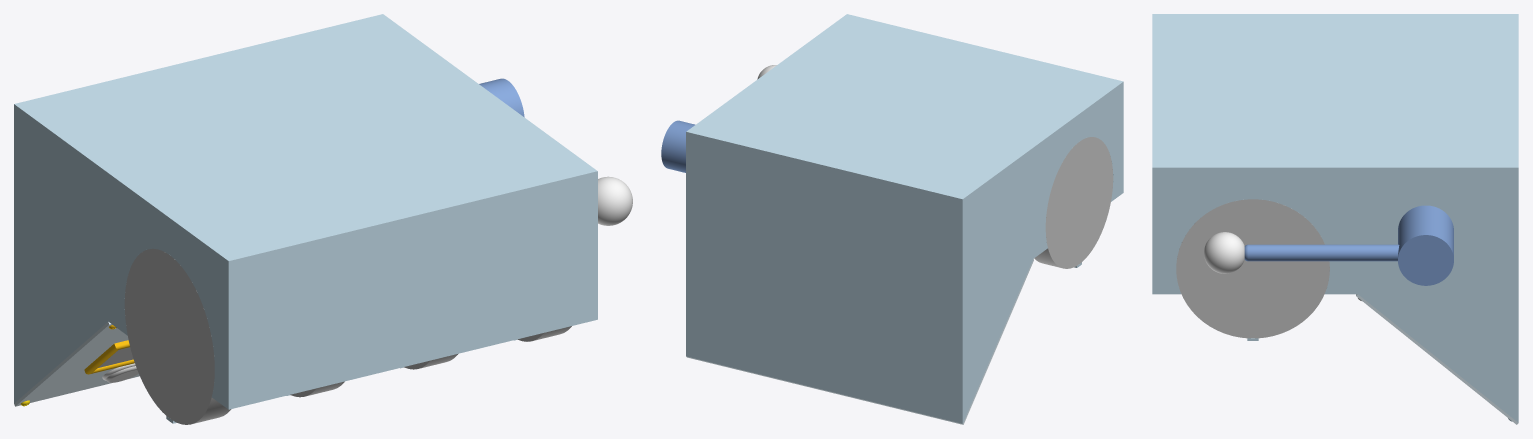
The model's file is tech-stack-slot-machine.gltf.
The picture shows the model from 3 angles, left to right: view 1: azimuth 30°, elevation 25°; view 2: azimuth 150°, elevation 25°; view 3: azimuth 270°, elevation 25°; orthographic projection. The views are drawn at different scales.
Visible parts, largest first — view 1: main-body, top-plate, spinner-housing, faceplate, handle-knob, handle-body, display-border; view 2: main-body, spinner-housing, handle-body, faceplate, top-plate; view 3: main-body, spinner-housing, handle-body, handle-knob, top-plate, faceplate.
Part boxes in pixels (x1,y1,x2,y2): main-body: (14,14,595,407); top-plate: (227,170,597,409); spinner-housing: (124,248,571,424); faceplate: (14,321,139,406); handle-knob: (598,176,632,225); handle-body: (479,78,524,117); display-border: (84,340,134,374); main-body: (686,15,1122,423); spinner-housing: (1034,137,1113,268); handle-body: (661,120,695,172); faceplate: (686,259,1033,424); top-plate: (846,14,1123,193); main-body: (1155,14,1518,422); spinner-housing: (1176,199,1329,338); handle-body: (1244,205,1453,285); handle-knob: (1204,232,1244,273); top-plate: (1152,14,1155,294); faceplate: (1356,294,1518,424).
Size of the model in its own units: 0.0397 by 0.0258 by 0.0333.
